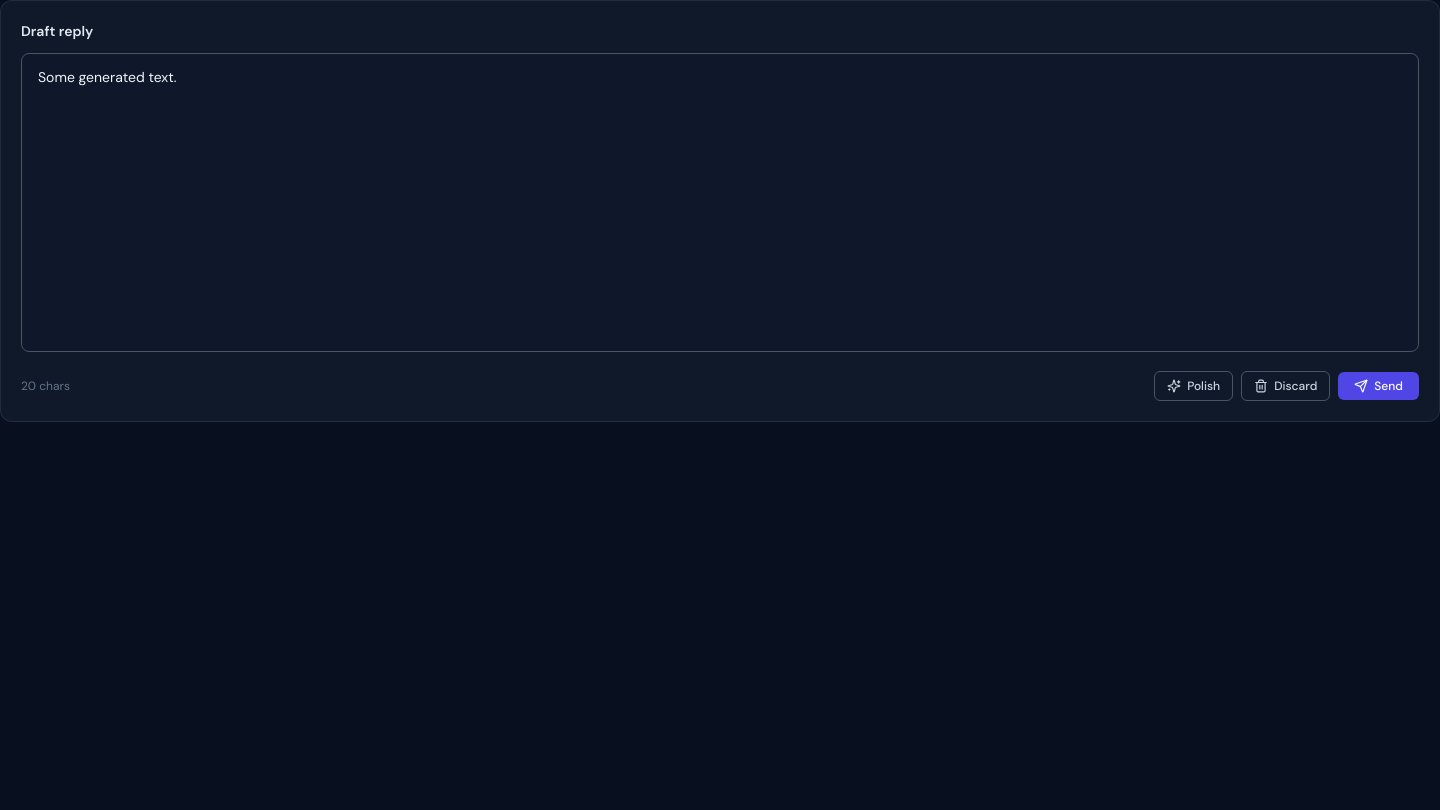
Test: DraftPanel › discard shows confirmation dialog
Note: Click the Discard button in the footer
Click the button "Discard" at (1286, 386), box 1241,371 -> 1330,401
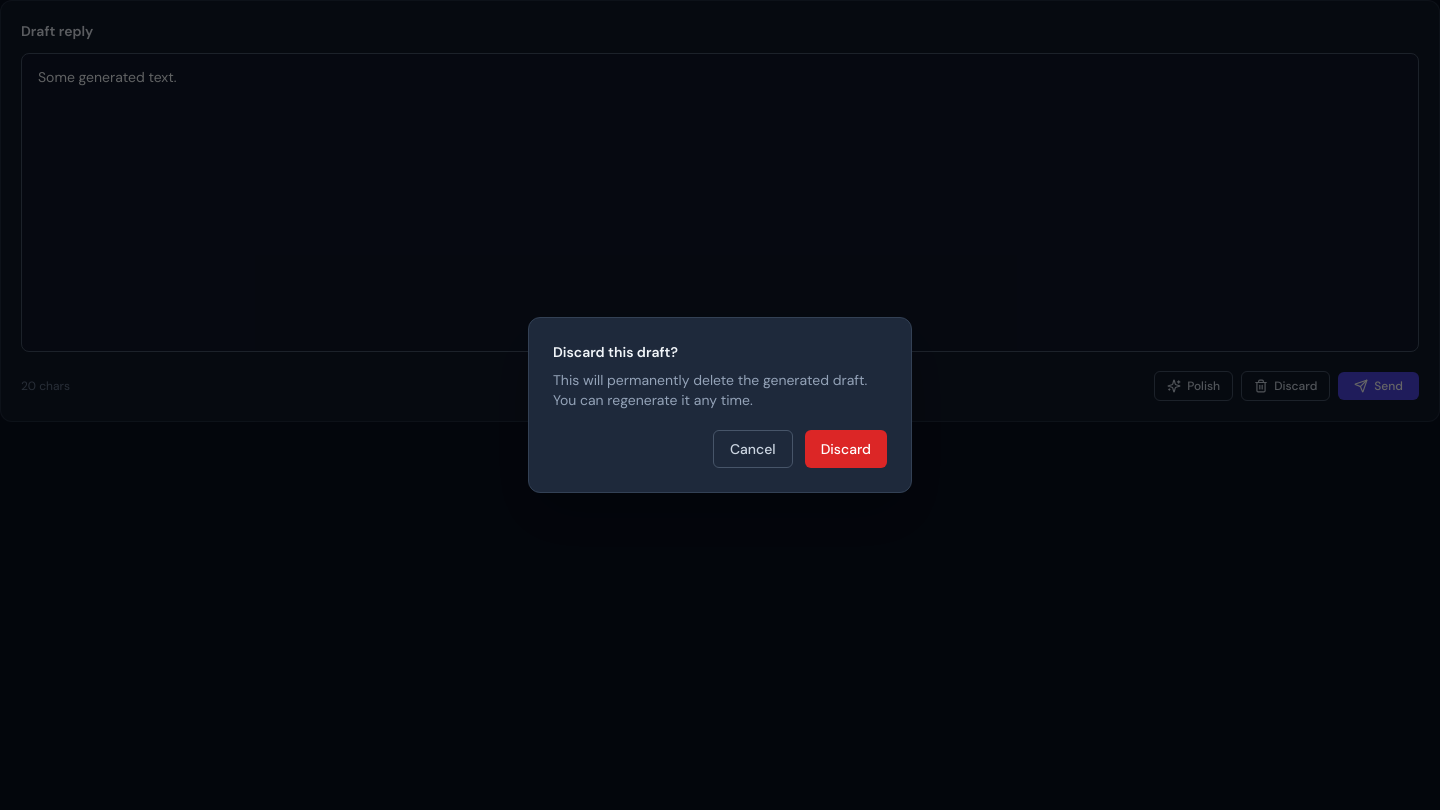
Now the heading "Discard this draft?" is shown, box 553,343 -> 678,361
